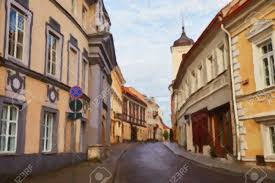strada: (22, 147, 264, 183)
